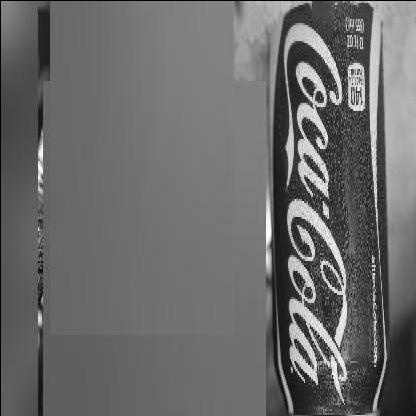alumunium_can: (268, 0, 390, 414)
